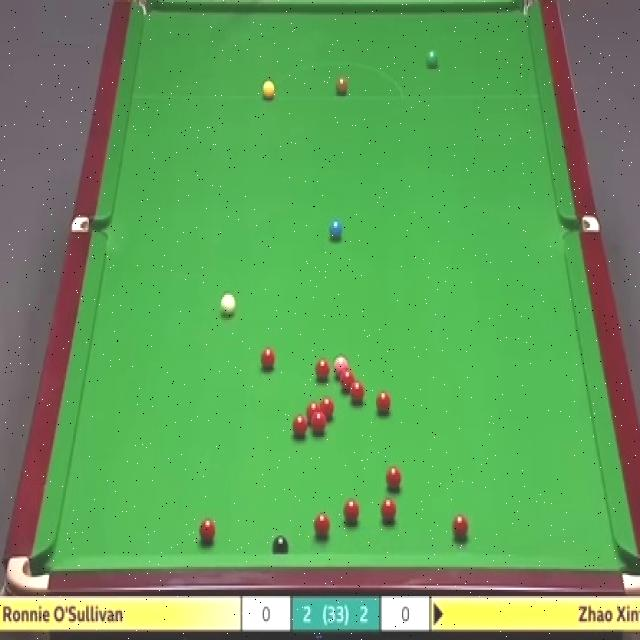black-ball: (274, 534, 292, 554)
blue-ball: (329, 220, 343, 238)
brown-ball: (336, 77, 349, 100)
green-ball: (426, 48, 439, 64)
pink-ball: (334, 356, 348, 376)
red-ball: (453, 512, 470, 545), (198, 518, 216, 544), (344, 495, 359, 525), (386, 465, 402, 493), (291, 414, 308, 440), (319, 397, 336, 423), (314, 512, 331, 538), (382, 499, 398, 522), (261, 346, 275, 372), (312, 412, 326, 435), (375, 393, 391, 412), (350, 383, 363, 406), (314, 358, 328, 379), (306, 403, 321, 422), (340, 369, 354, 389)
white-ball: (221, 291, 235, 318)
yellow-ball: (262, 79, 275, 101)
